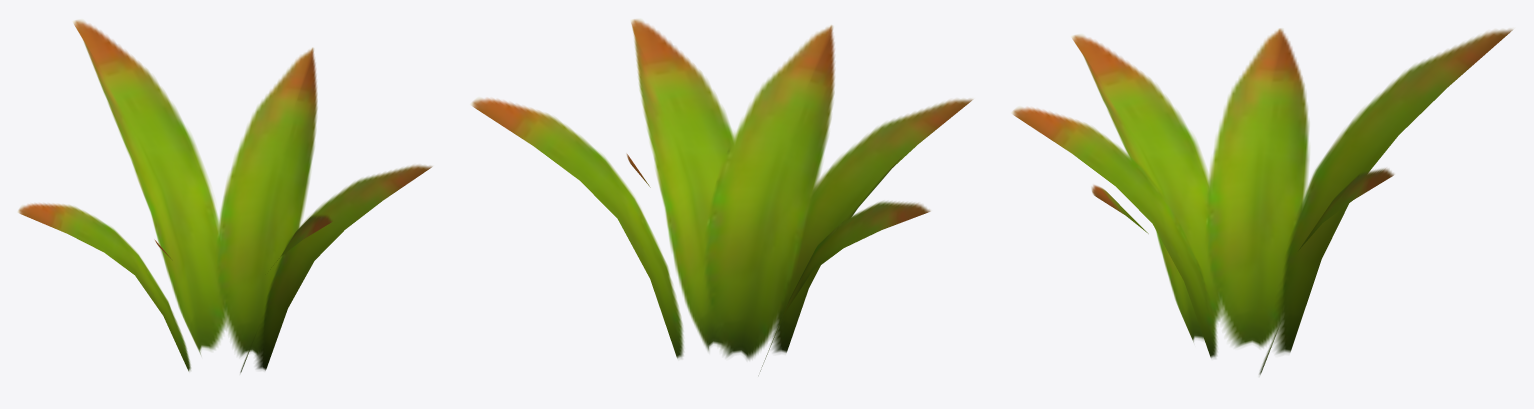
The model's file is Plant_3.glb.
3 renders of one model, left to right at view 1: azimuth 30°, elevation 25°; view 2: azimuth 150°, elevation 25°; view 3: azimuth 270°, elevation 25°, orthographic. The views are drawn at different scales.
Visible parts, largest first — view 1: Plant_1; view 2: Plant_1; view 3: Plant_1.
Part boxes in pixels (box(x1,y1,x2,y2)): Plant_1: box(18, 20, 432, 373); Plant_1: box(471, 19, 972, 375); Plant_1: box(1012, 28, 1512, 374).
Size of the model in its own units: 1.27 by 1.01 by 1.39.
1 material, 1 textured.
